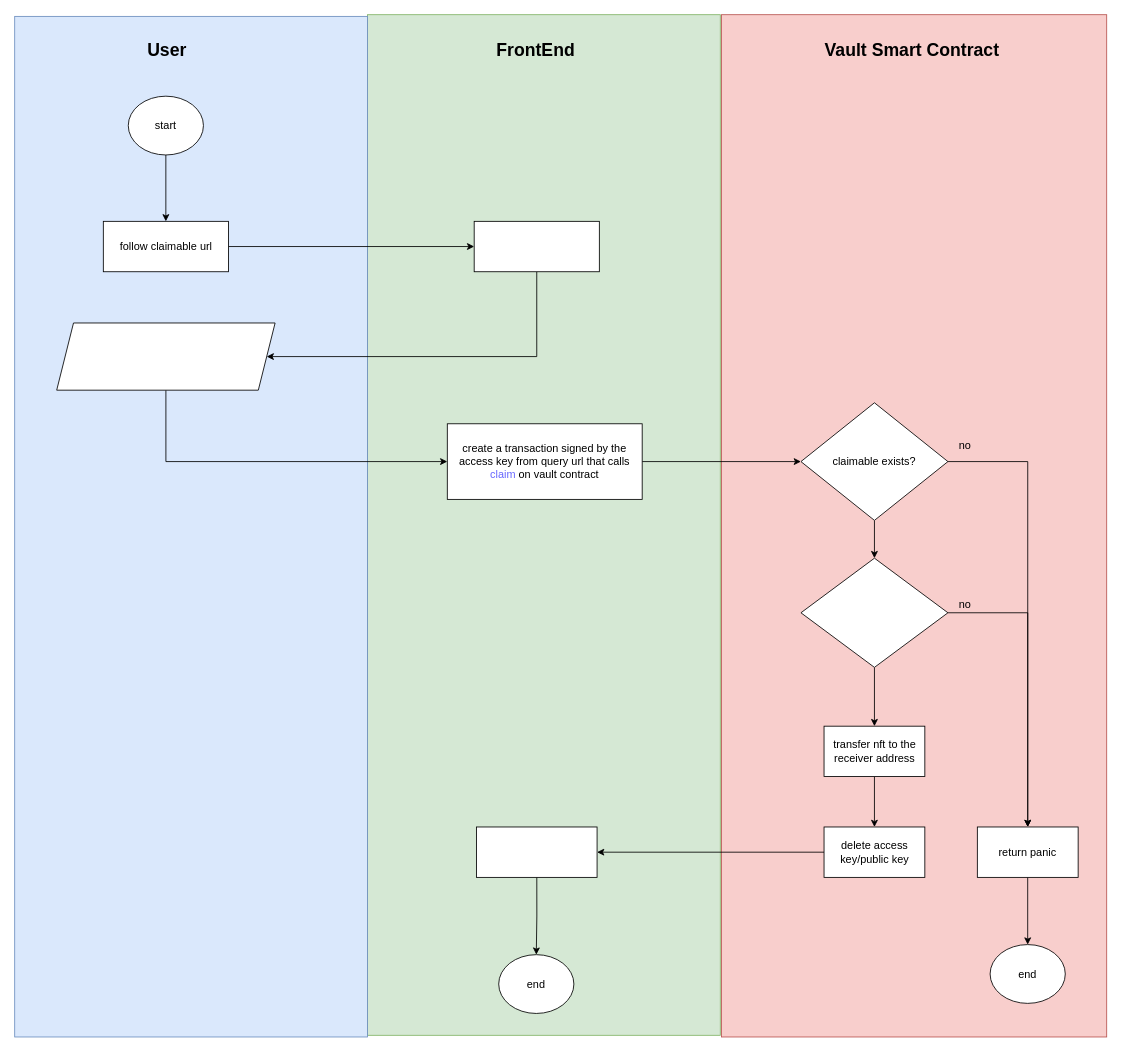
Image size: 1121x1052. Some labels were removed from this diagram. The box of each missing label's shape, as (x1, y1, x2, y2) in pixels:
click claim input receiver address: (56, 322, 275, 390)
public key matched?: (800, 557, 948, 667)
redirect to near wallet nft-detail view: (476, 826, 597, 877)
show claimable to user: (473, 220, 599, 272)
